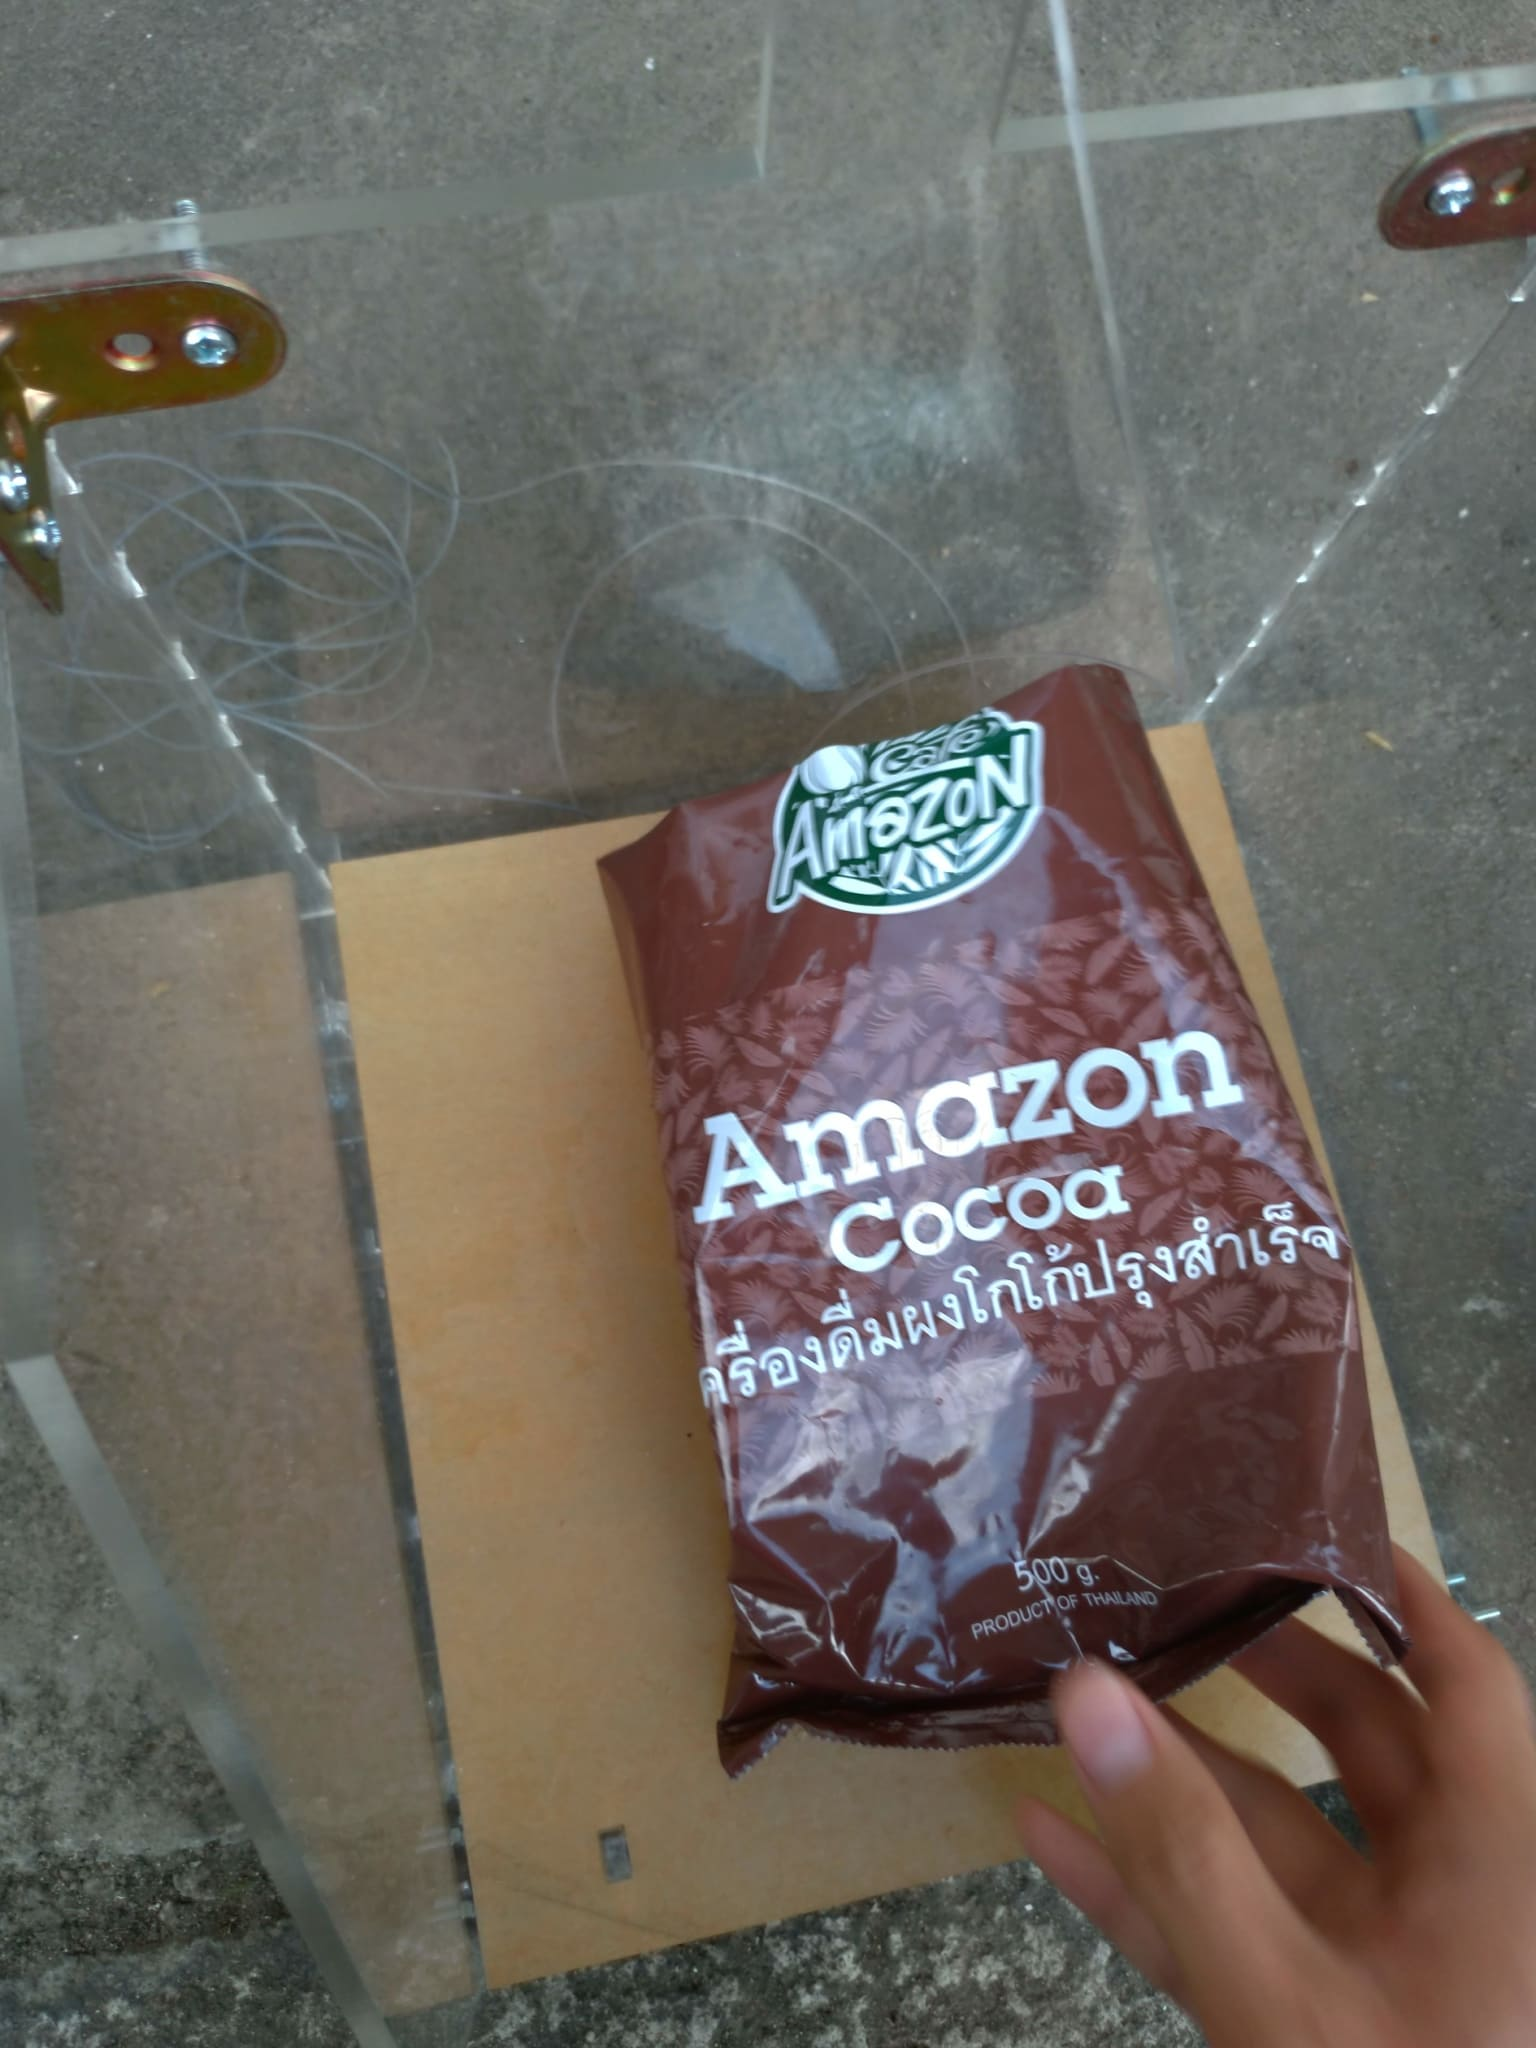Others: (586, 664, 1400, 1772)
